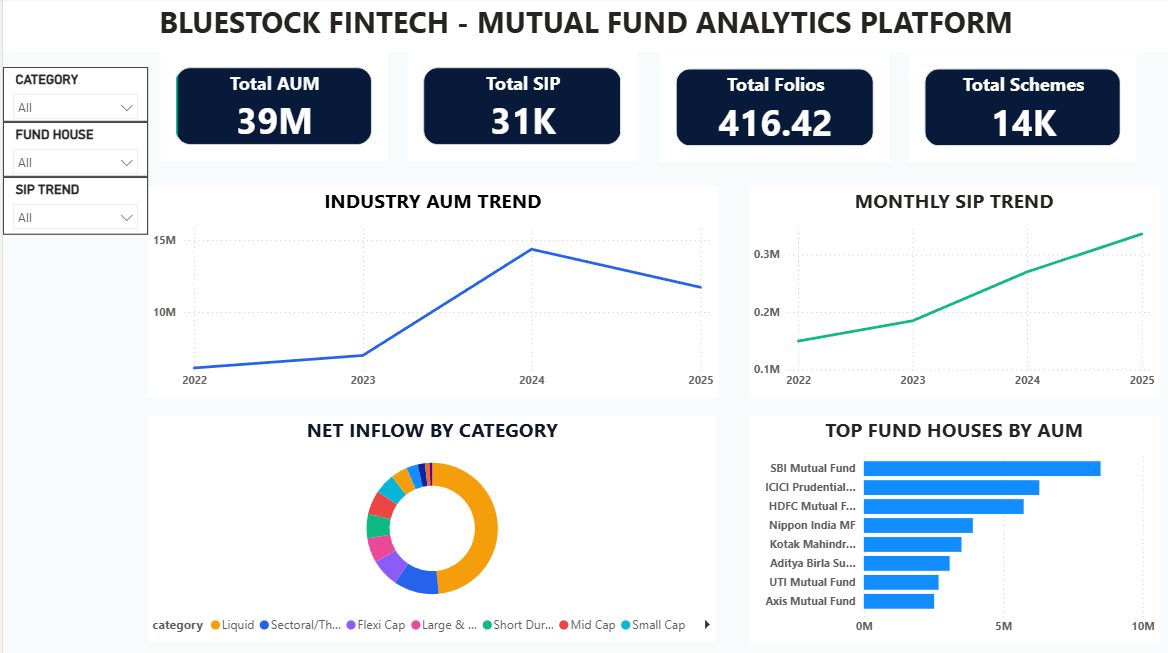

The dashboard page shown, as its layout file describes it:
{"tool":"powerbi","page":{"name":"Industry Overview","canvas":[1280,720],"ordinal":0},"visuals":[{"type":"cardVisual","fields":{"Data":["03_aum_by_fund_house.Total_AUM"]},"box":[172.9,60.4,249.7,119.4],"z":0},{"type":"textbox","box":[0,0,1280.2,60.5],"z":1000},{"type":"cardVisual","fields":{"Data":["01_fund_master.Max_SIP"]},"box":[444.6,60.4,251.1,119.4],"z":2000},{"type":"cardVisual","fields":{"Data":["01_fund_master.Total_Folios"]},"box":[721.8,61.7,251.1,119.4],"z":3000},{"type":"cardVisual","fields":{"Data":["01_fund_master.Total_Schemes"]},"box":[994.9,61.7,249.7,119.4],"z":4000},{"type":"lineChart","title":"INDUSTRY AUM TREND","fields":{"Category":["03_aum_by_fund_house.date.Variation.Date Hierarchy.Year","03_aum_by_fund_house.date.Variation.Date Hierarchy.Quarter","03_aum_by_fund_house.date.Variation.Date Hierarchy.Month","03_aum_by_fund_house.date.Variation.Date Hierarchy.Day"],"Y":["Sum(03_aum_by_fund_house.aum_crore)"]},"box":[159.2,208.6,625.7,230.5],"z":5000},{"type":"lineChart","title":"MONTHLY SIP TREND","fields":{"Category":["04_monthly_sip_inflows.month.Variation.Date Hierarchy.Year","04_monthly_sip_inflows.month.Variation.Date Hierarchy.Quarter","04_monthly_sip_inflows.month.Variation.Date Hierarchy.Month","04_monthly_sip_inflows.month.Variation.Date Hierarchy.Day"],"Y":["Sum(04_monthly_sip_inflows.sip_inflow_crore)"]},"box":[819.2,208.6,450.1,230.5],"z":6000},{"type":"donutChart","title":"NET  INFLOW BY CATEGORY","fields":{"Category":["05_category_inflows.category"],"Y":["Sum(05_category_inflows.net_inflow_crore)"]},"box":[159.2,459.7,624.4,248.4],"z":7000},{"type":"clusteredBarChart","title":"TOP FUND HOUSES BY AUM","fields":{"Category":["03_aum_by_fund_house.fund_house"],"Y":["Sum(03_aum_by_fund_house.aum_crore)"]},"box":[819.2,459.7,450.1,249.7],"z":8000},{"type":"slicer","fields":{"Values":["05_category_inflows.category"]},"box":[0,76.8,159.2,60.4],"z":9000},{"type":"slicer","fields":{"Values":["03_aum_by_fund_house.fund_house"]},"box":[0,137.2,159.2,60.4],"z":10000},{"type":"slicer","fields":{"Values":["04_monthly_sip_inflows.month"]},"box":[0,197.6,159.2,63.1],"z":11000}]}

Visuals, with their boxes in screenshot pixels (x1, y1, x2, y2), scaled from the page's 1280x720 canvas onto the 1168x653 screenshot:
cardVisual - 03_aum_by_fund_house.Total_AUM: box(158, 55, 386, 163)
textbox: box(0, 0, 1167, 55)
cardVisual - 01_fund_master.Max_SIP: box(406, 55, 635, 163)
cardVisual - 01_fund_master.Total_Folios: box(659, 56, 888, 164)
cardVisual - 01_fund_master.Total_Schemes: box(908, 56, 1136, 164)
"INDUSTRY AUM TREND" lineChart: box(145, 189, 716, 398)
"MONTHLY SIP TREND" lineChart: box(748, 189, 1158, 398)
"NET  INFLOW BY CATEGORY" donutChart: box(145, 417, 715, 642)
"TOP FUND HOUSES BY AUM" clusteredBarChart: box(748, 417, 1158, 643)
slicer - 05_category_inflows.category: box(0, 70, 145, 124)
slicer - 03_aum_by_fund_house.fund_house: box(0, 124, 145, 179)
slicer - 04_monthly_sip_inflows.month: box(0, 179, 145, 236)
